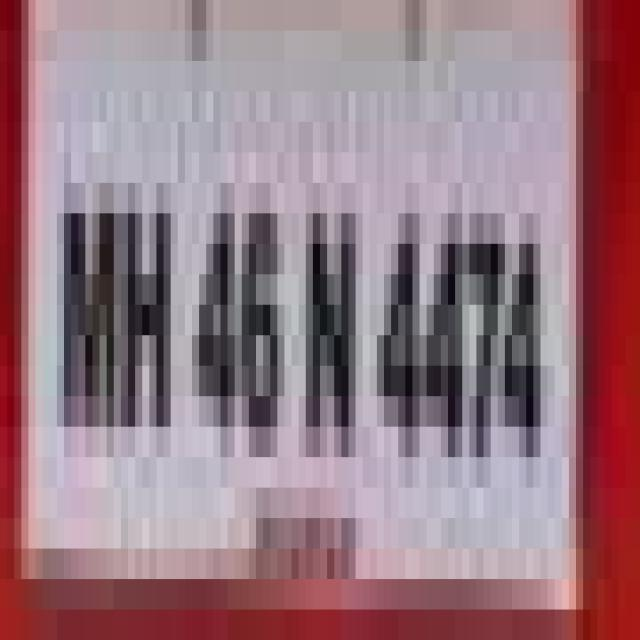plate: (14, 0, 590, 610)
